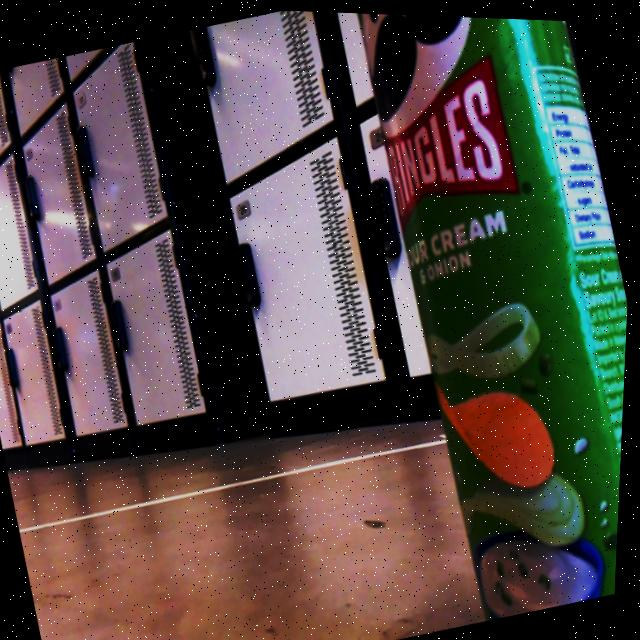greenpringles: (308, 10, 640, 628)
